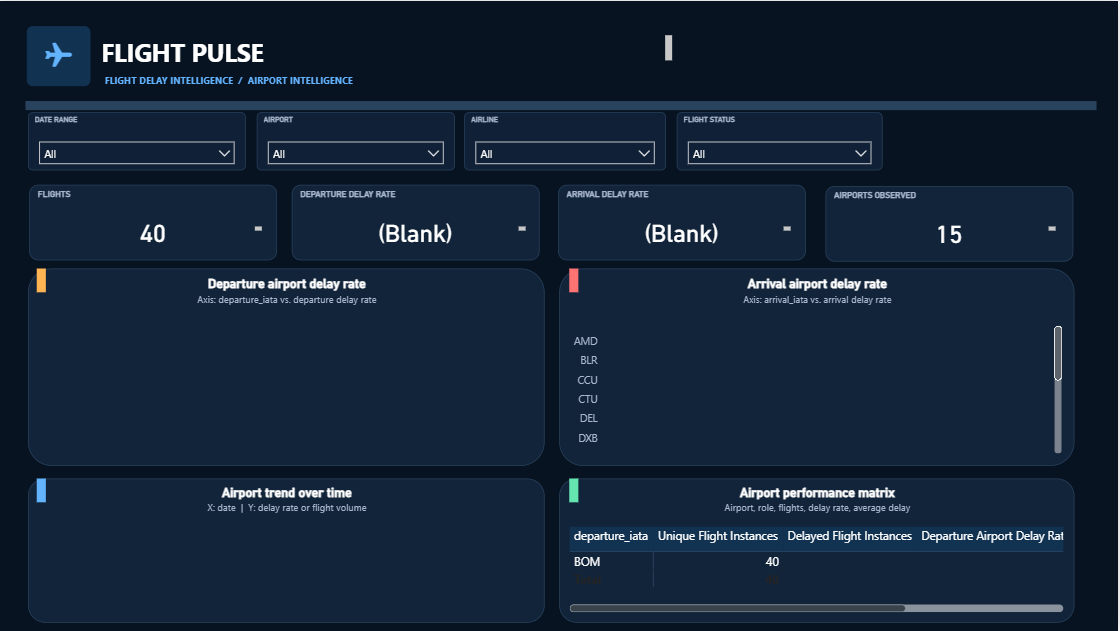

What the dashboard file says about the page in this screenshot:
{"tool":"powerbi","page":{"name":"Airplane Intelligence","canvas":[1280,720],"ordinal":2},"visuals":[{"type":"textbox","box":[32.9,28.6,72.9,68.6],"z":0},{"type":"textbox","box":[112.9,34.3,662.9,42.9],"z":1000},{"type":"textbox","box":[117.1,75.7,720,38.6],"z":2000},{"type":"textbox","box":[31.5,114.2,1224,1.4],"z":3000},{"type":"slicer","title":"DATE RANGE","fields":{"Values":["public flight_observations.flight_date"]},"box":[33.8,127.5,248.8,66.2],"z":4000},{"type":"slicer","title":"AIRPORT","fields":{"Values":["public flight_observations.departure_iata"]},"box":[295,127.5,226.2,66.2],"z":5000},{"type":"slicer","title":"AIRLINE","fields":{"Values":["public flight_observations.airline"]},"box":[532.5,127.5,230,66.2],"z":6000},{"type":"slicer","title":"FLIGHT STATUS","fields":{"Values":["public flight_observations.FlightStatusGroup"]},"box":[775,127.5,235,66.2],"z":7000},{"type":"card","title":"FLIGHTS","fields":{"Values":["public flight_observations.Unique Flight Instances"]},"box":[35,210,283.2,86.4],"z":8000},{"type":"textbox","box":[46.8,253.4,259.2,14.4],"z":9000},{"type":"card","title":"DEPARTURE DELAY RATE","fields":{"Values":["public flight_observations.Departure Airport Delay Rate %"]},"box":[336.2,210,283.2,86.4],"z":10000},{"type":"textbox","box":[349.2,253.4,259.2,14.4],"z":11000},{"type":"card","title":"ARRIVAL DELAY RATE","fields":{"Values":["public flight_observations.Arrival Airport Delay Rate %"]},"box":[640,210,283.2,86.4],"z":12000},{"type":"textbox","box":[651.6,253.4,259.2,14.4],"z":13000},{"type":"card","title":"AIRPORTS OBSERVED","fields":{"Values":["public flight_observations.Airports Observed"]},"box":[946.2,211.2,283.2,86.4],"z":14000},{"type":"textbox","box":[954,253.4,259.2,14.4],"z":15000},{"type":"barChart","title":"Departure airport delay rate","fields":{"Category":["public flight_observations.departure_iata"],"Y":["Sum(public flight_observations.departure_delay_minutes)"]},"box":[33.8,306.2,590.4,225.6],"z":16000},{"type":"textbox","box":[44.9,306.2,4.3,26.9],"z":17000},{"type":"barChart","title":"Arrival airport delay rate","fields":{"Category":["public flight_observations.arrival_iata"],"Y":["public flight_observations.Arrival Airport Delay Rate %"]},"box":[641.2,306.2,588.5,225.6],"z":18000},{"type":"textbox","box":[652.6,306.2,4.3,26.9],"z":19000},{"type":"lineChart","title":"Airport trend over time","fields":{"Category":["public flight_observations.flight_date.Variation.Date Hierarchy.Day"],"Y":["public flight_observations.Delay Rate %"],"Series":["public flight_observations.departure_iata"]},"box":[33.8,546.2,590.4,165.1],"z":20000},{"type":"textbox","box":[44.9,546.2,4.3,26.9],"z":21000},{"type":"pivotTable","title":"Airport performance matrix","fields":{"Rows":["public flight_observations.departure_iata"],"Values":["public flight_observations.Unique Flight Instances","public flight_observations.Delayed Flight Instances","public flight_observations.Departure Airport Delay Rate %","public flight_observations.Average Departure Delay (min)"]},"box":[641.2,546.2,588.5,165.1],"z":22000},{"type":"textbox","box":[652.6,546.2,4.3,26.9],"z":23000}]}

Visuals, with their boxes in screenshot pixels (x1, y1, x2, y2), scaled from the page's 1280x720 canvas onto the 1120x631 screenshot:
textbox: bbox(29, 25, 93, 85)
textbox: bbox(99, 30, 679, 68)
textbox: bbox(102, 66, 732, 100)
textbox: bbox(28, 100, 1099, 101)
"DATE RANGE" slicer: bbox(30, 112, 247, 170)
"AIRPORT" slicer: bbox(258, 112, 456, 170)
"AIRLINE" slicer: bbox(466, 112, 667, 170)
"FLIGHT STATUS" slicer: bbox(678, 112, 884, 170)
"FLIGHTS" card: bbox(31, 184, 278, 260)
textbox: bbox(41, 222, 268, 235)
"DEPARTURE DELAY RATE" card: bbox(294, 184, 542, 260)
textbox: bbox(306, 222, 532, 235)
"ARRIVAL DELAY RATE" card: bbox(560, 184, 808, 260)
textbox: bbox(570, 222, 797, 235)
"AIRPORTS OBSERVED" card: bbox(828, 185, 1076, 261)
textbox: bbox(835, 222, 1062, 235)
"Departure airport delay rate" barChart: bbox(30, 268, 546, 466)
textbox: bbox(39, 268, 43, 292)
"Arrival airport delay rate" barChart: bbox(561, 268, 1076, 466)
textbox: bbox(571, 268, 575, 292)
"Airport trend over time" lineChart: bbox(30, 479, 546, 623)
textbox: bbox(39, 479, 43, 502)
"Airport performance matrix" pivotTable: bbox(561, 479, 1076, 623)
textbox: bbox(571, 479, 575, 502)
